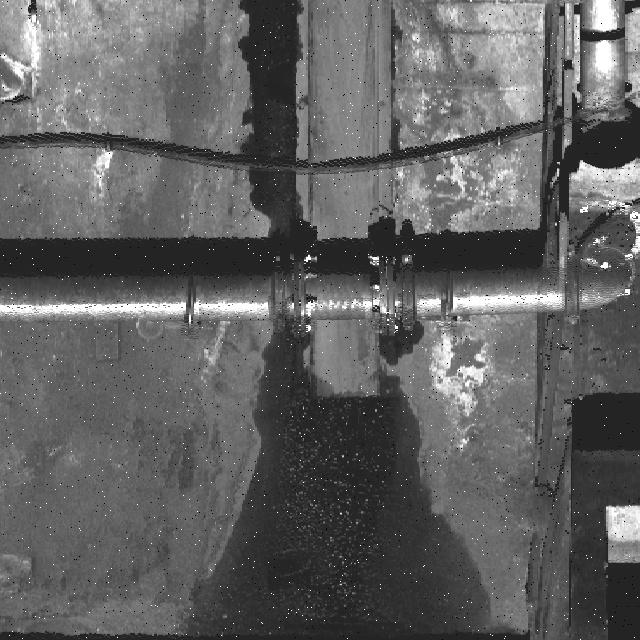leakage: (164, 315, 515, 640), (222, 1, 323, 238)
